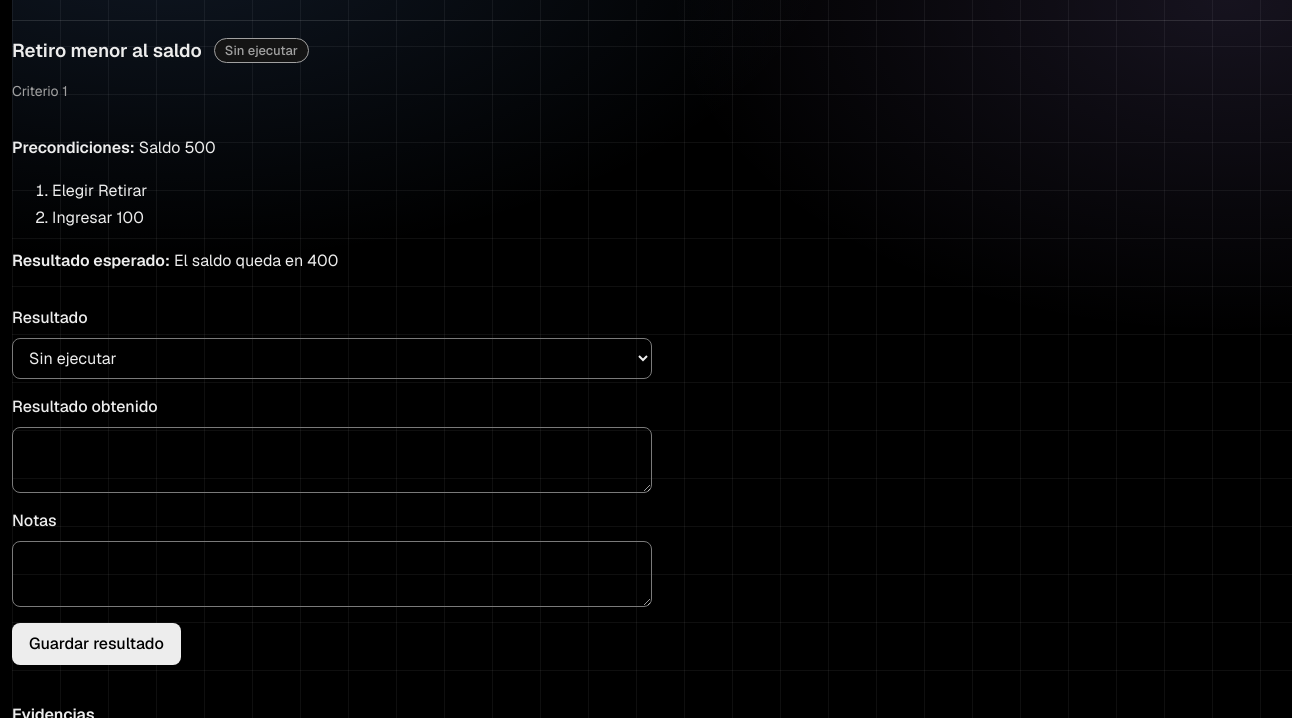
Scenario: SessionDetailPage › no se puede cerrar con casos pendientes; al ejecutar todo sugiere aceptar y cierra
This screenshot has width=1292, height=718.
(page scrolled)
Select "Pasó" in the dropdown labelled "Resultado". click: (332, 359)
box: [12,338,652,379]
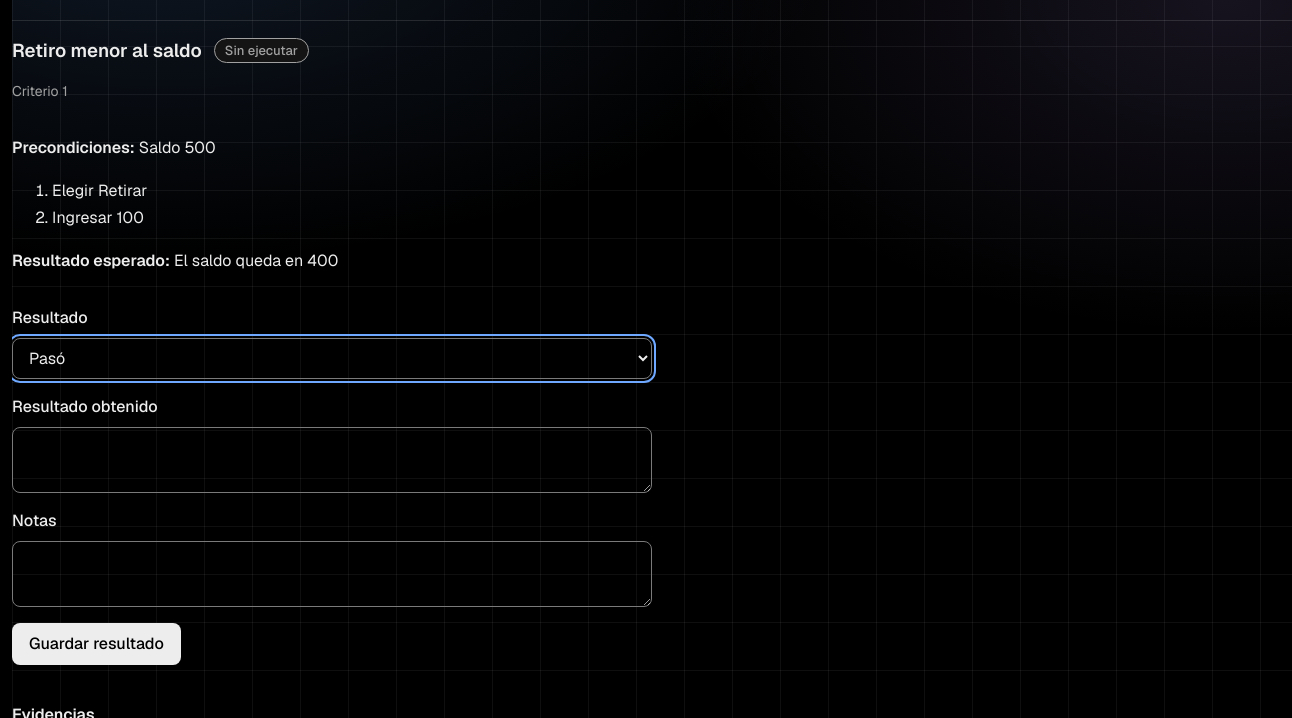
Click the button "Guardar resultado". click: (96, 644)
box: [12,623,181,665]
(page scrolled)
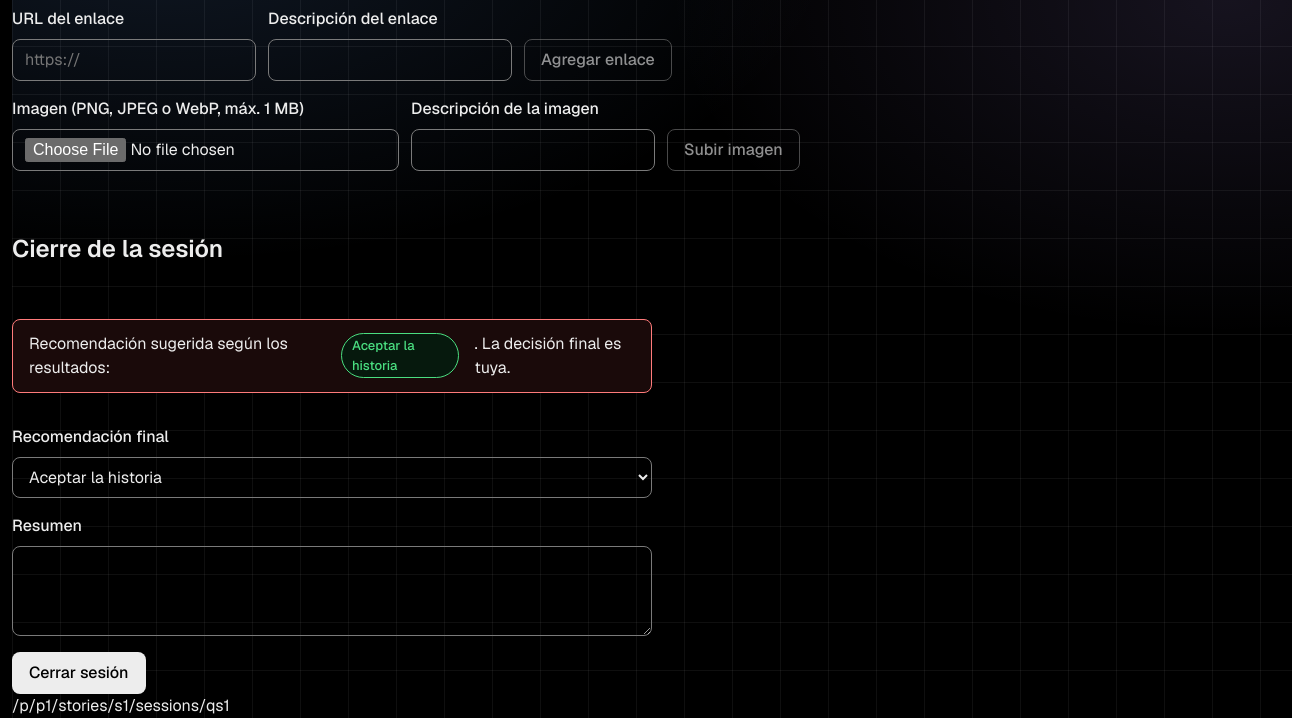
Now the text "Recomendación sugerida" shows "Aceptar la historia", box [352,337,415,374]
Type "Todo bien" into the text box labelled "Resumen". click: (332, 591)
box: [12,546,652,636]
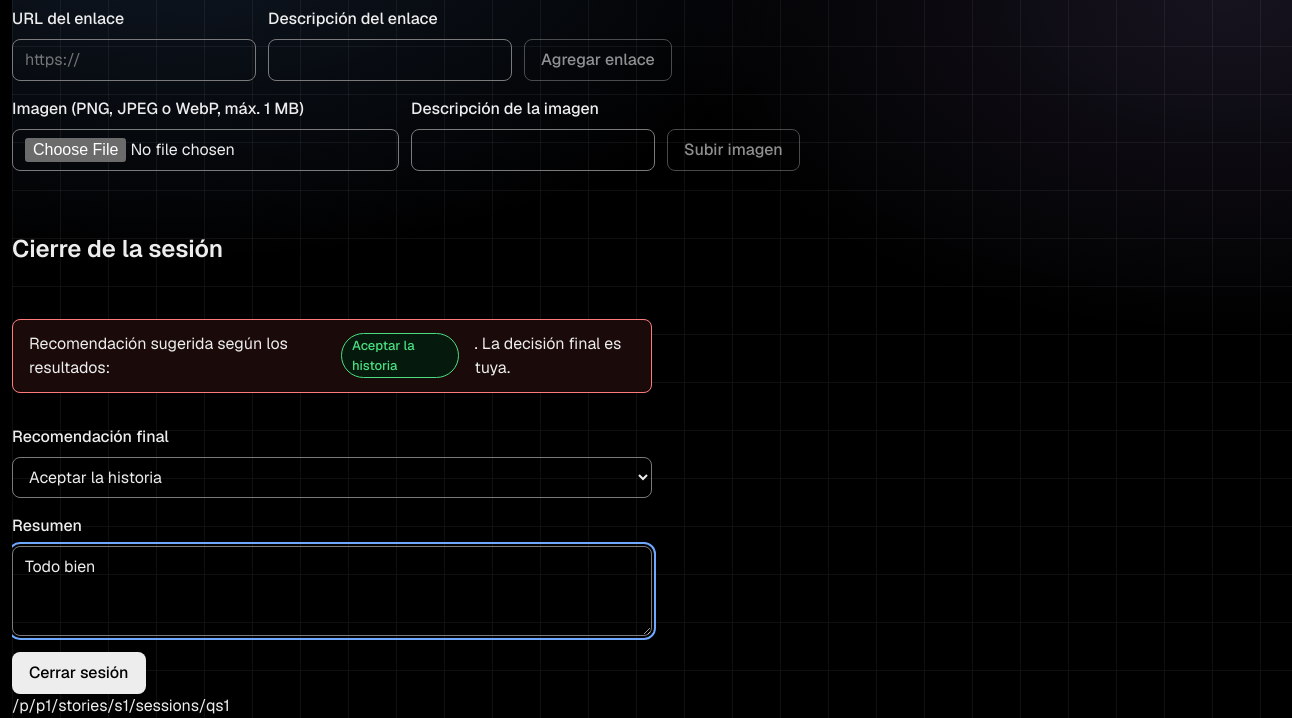
Click the button "Cerrar sesión". click: (79, 673)
box: [12,652,146,694]
(page scrolled)
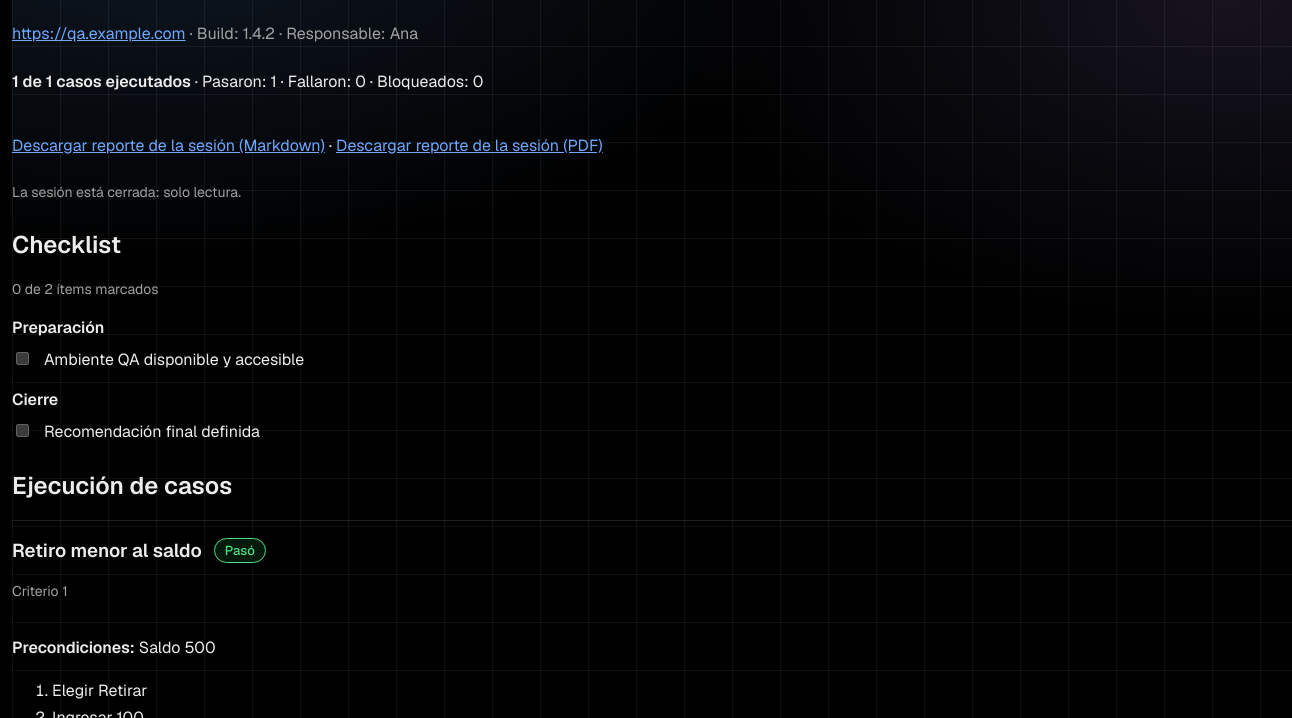
Now the checkbox labelled "Ambiente QA disponible y accesible" is disabled, box [16,352,29,364]
